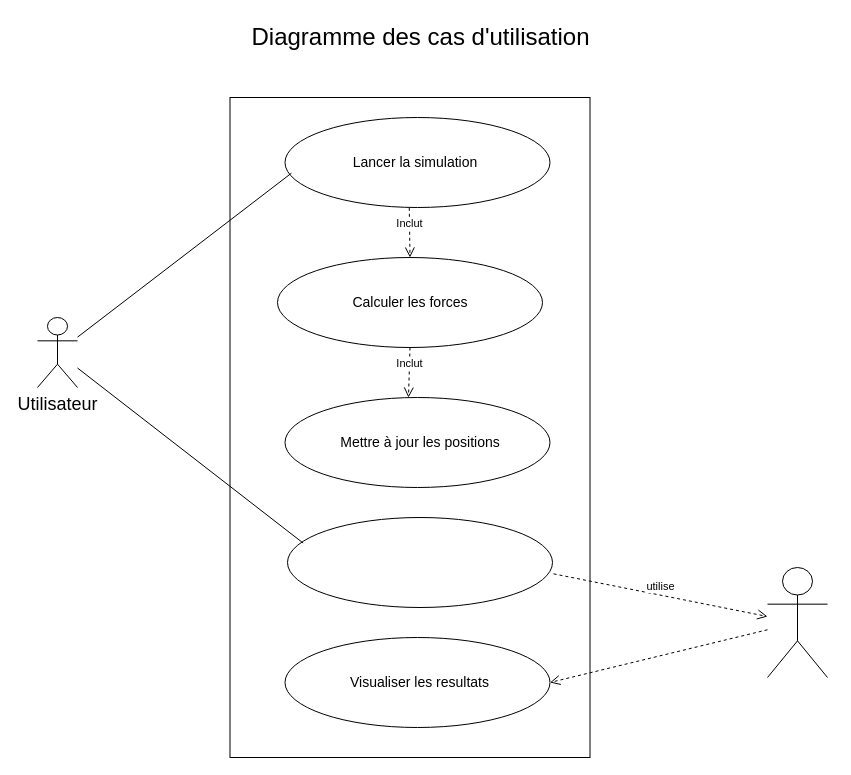
Image size: 851x775. Some labels were removed from this diagram. The shapes that lost their labels are listed below. From the top down, each one's box as (x1, y1, x2, y2) in pixels, then its label:
(286, 516, 552, 608): Exporter les données VTK
(766, 566, 828, 678): Paraview
